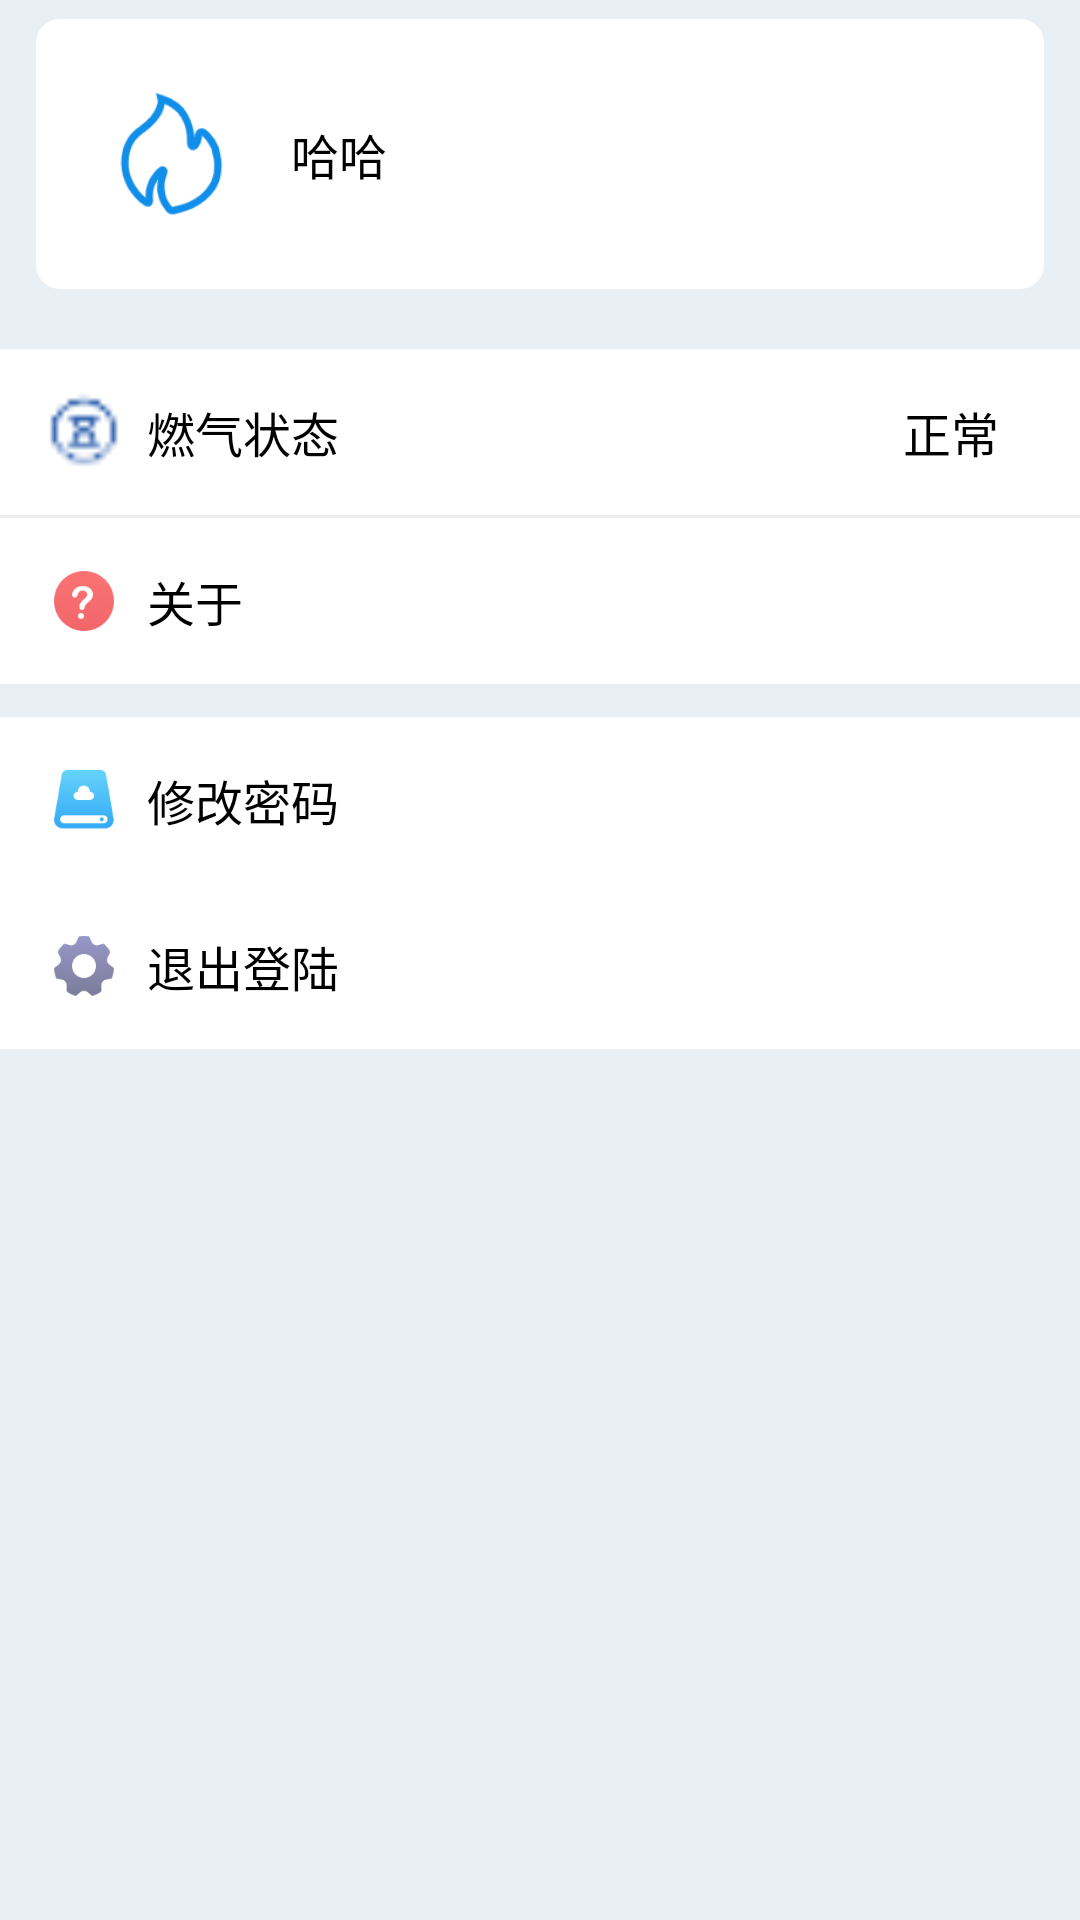

Screen size 1080 × 1920. Icon name, then its box in pixels as bbox(x1, y1, x2, y2):
me disk: bbox(54, 770, 114, 829)
me help: bbox(54, 571, 114, 631)
me setting: bbox(54, 936, 114, 996)
me status: bbox(50, 396, 118, 465)
